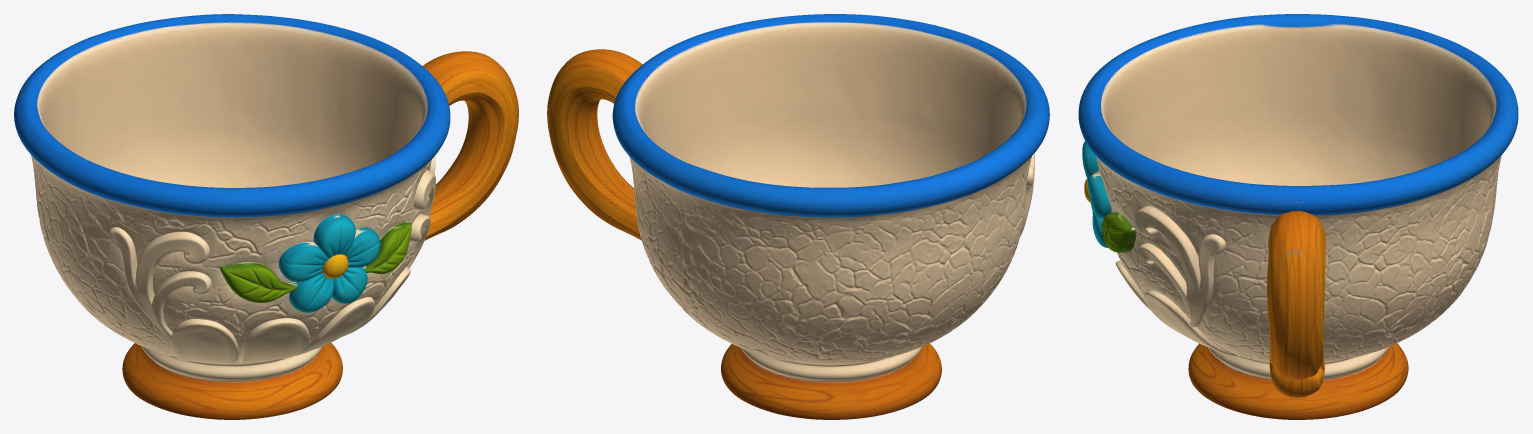
Rendered from flower_teacup_orig.glb.
3 views of the same model, side by side, from view 1: azimuth 30°, elevation 25°; view 2: azimuth 150°, elevation 25°; view 3: azimuth 270°, elevation 25° (orthographic).
Size of the model in its own units: 1.9 by 1.05 by 1.54.
1 material, 1 textured.
